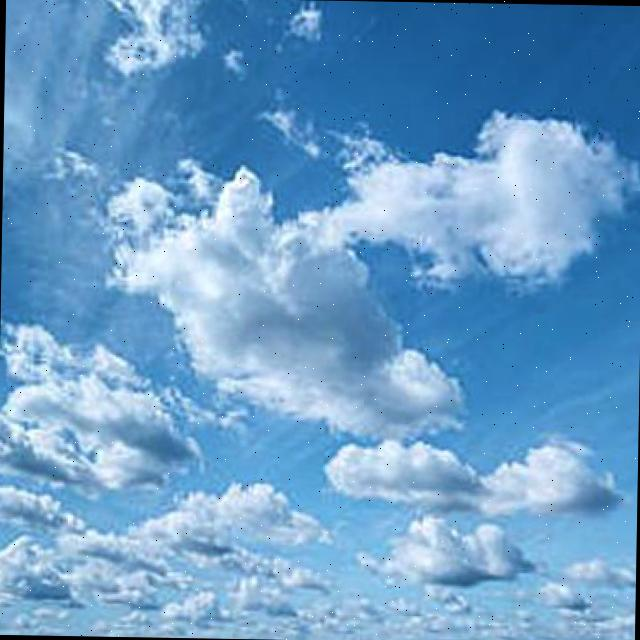Ci: (1, 14, 640, 582)
